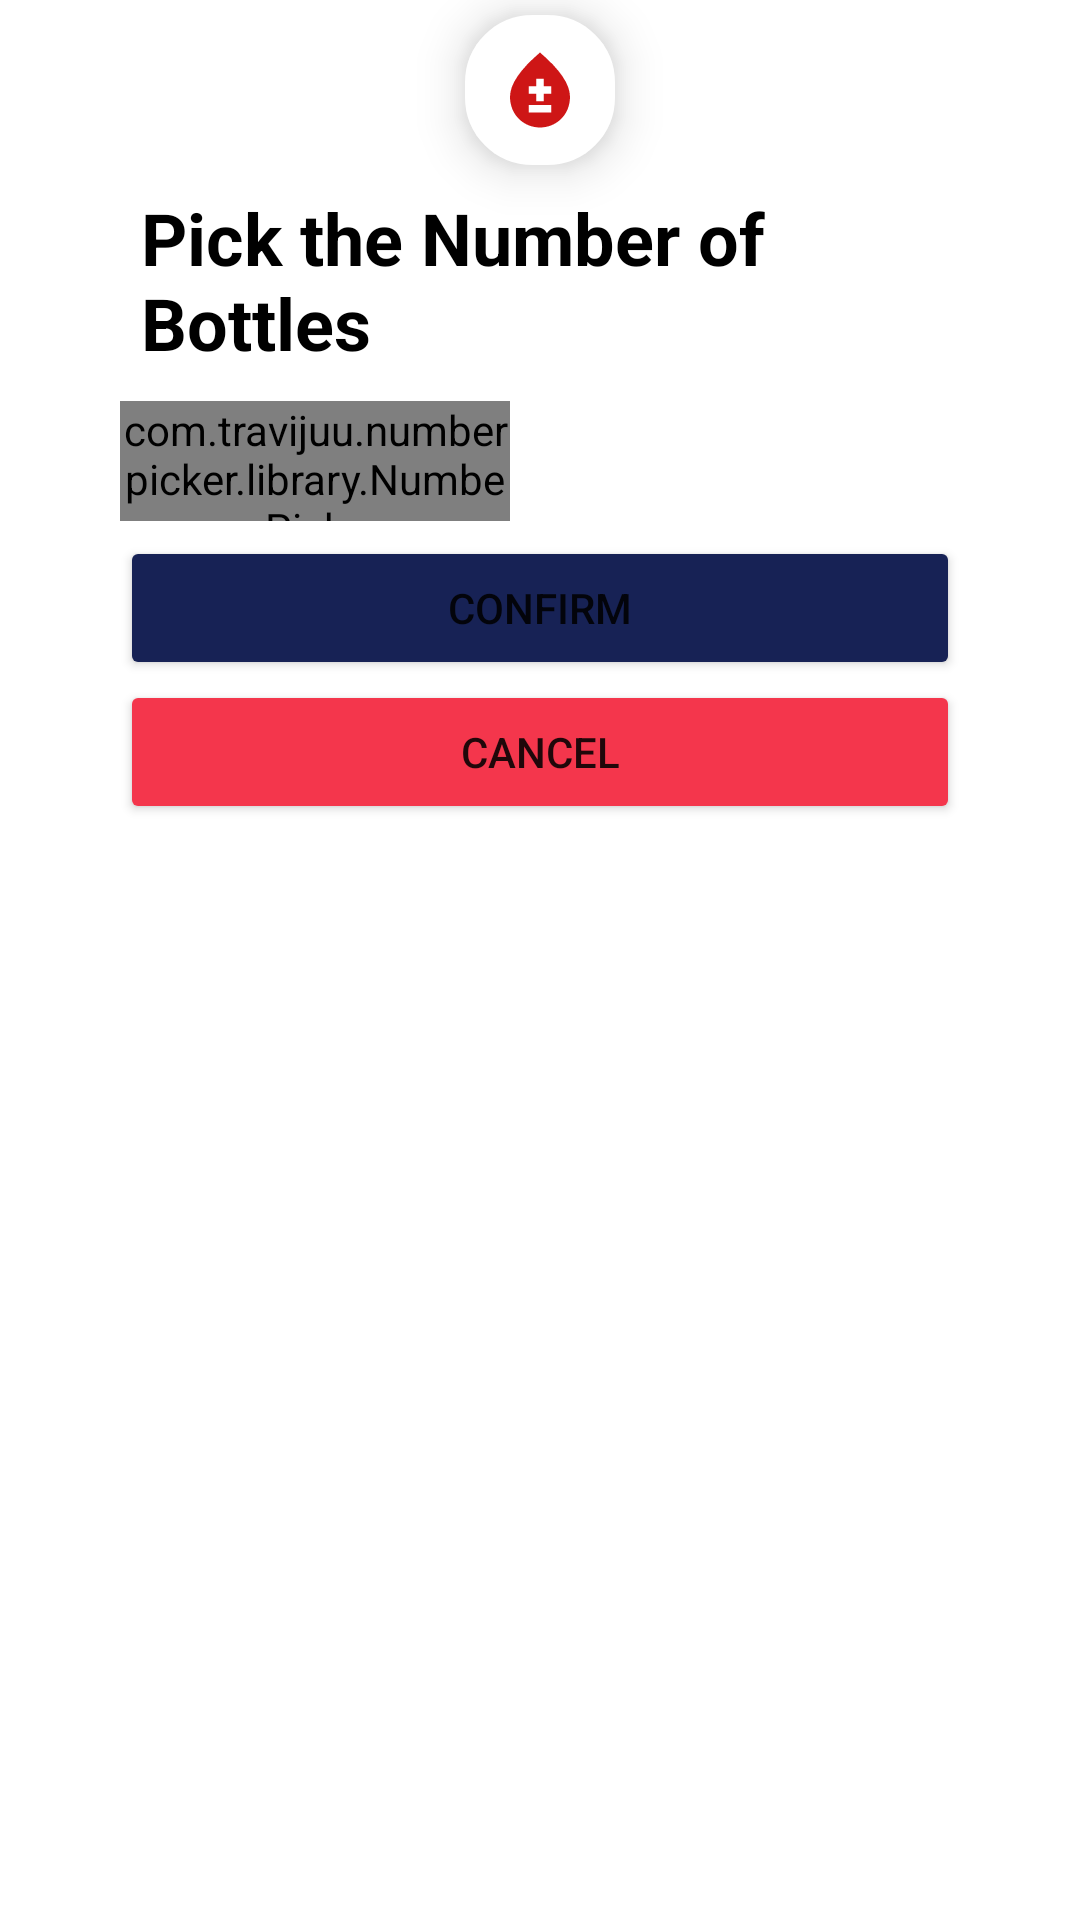

Named icons in this screenshot (1080px×1920px) and their bounding boxes, [x1=x1, y1=y1, x2=x2, y2=y2]:
bloodtype: [x1=473, y1=43, x2=607, y2=164]
